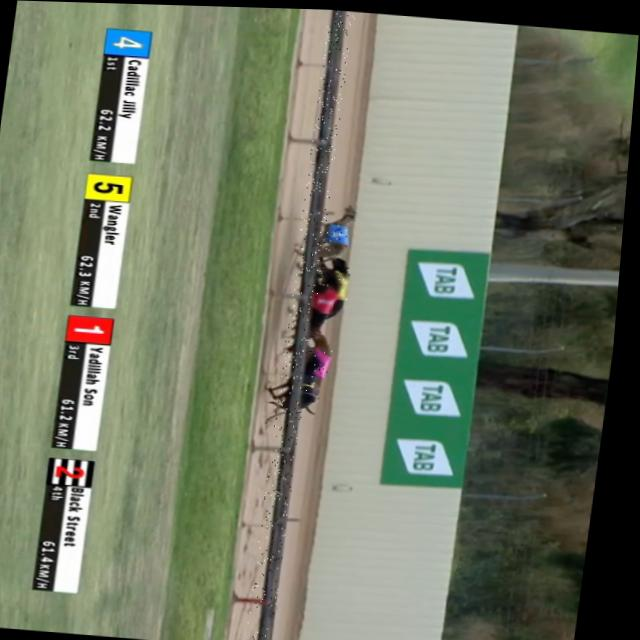dog_eight: (309, 347, 338, 376)
dog_five: (324, 269, 354, 298)
dog_four: (323, 222, 354, 250)
dog_one: (313, 287, 339, 312)
dog_seven: (292, 370, 327, 401)
rail: (265, 8, 345, 640)
